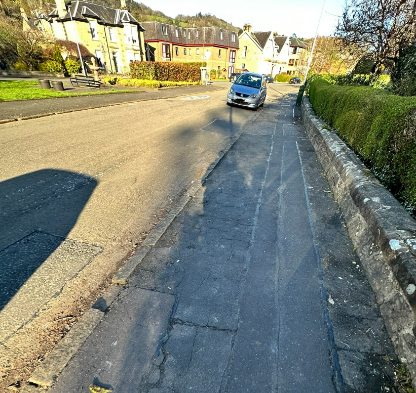car: (226, 72, 267, 109), (290, 72, 304, 89), (264, 72, 279, 86)
